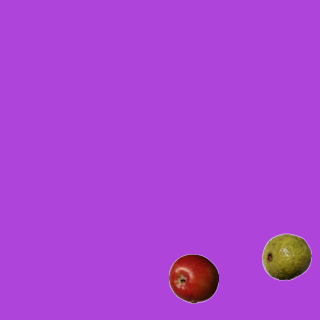Apple Braeburn: (168, 253, 218, 303)
Guava: (261, 231, 311, 281)
